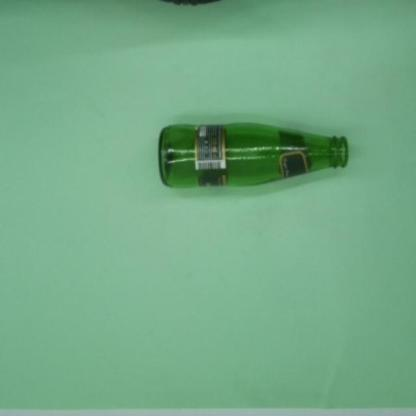Can: (159, 122, 349, 189)
